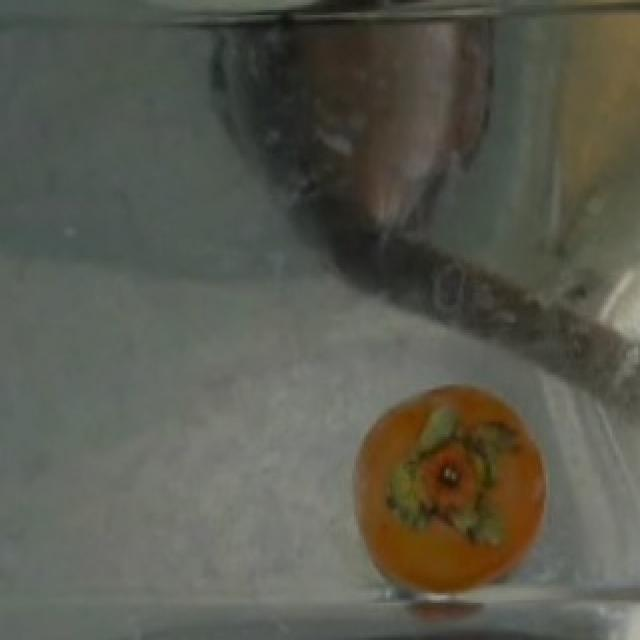Fruit: (324, 360, 572, 625)
